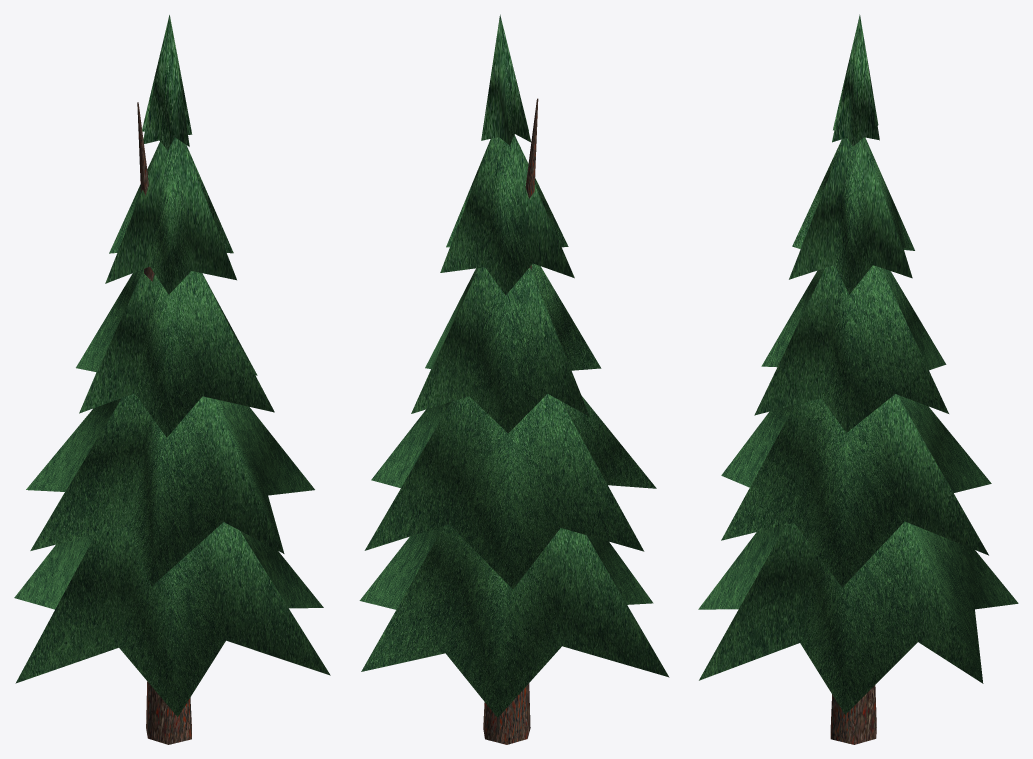
File: pine_2_lod1.glb
3 renders of one model, left to right at view 1: azimuth 30°, elevation 25°; view 2: azimuth 150°, elevation 25°; view 3: azimuth 270°, elevation 25°, orthographic.
Visible parts, largest first — view 1: pine_2_lod1; view 2: pine_2_lod1; view 3: pine_2_lod1.
Part boxes in pixels (left/top/right/bottom): pine_2_lod1: left=14, top=15, right=330, bottom=744; pine_2_lod1: left=359, top=14, right=669, bottom=744; pine_2_lod1: left=698, top=14, right=1018, bottom=744.
Size of the model in its own units: 5 by 11.11 by 4.48.
Materials: 2 (2 with a texture image).
